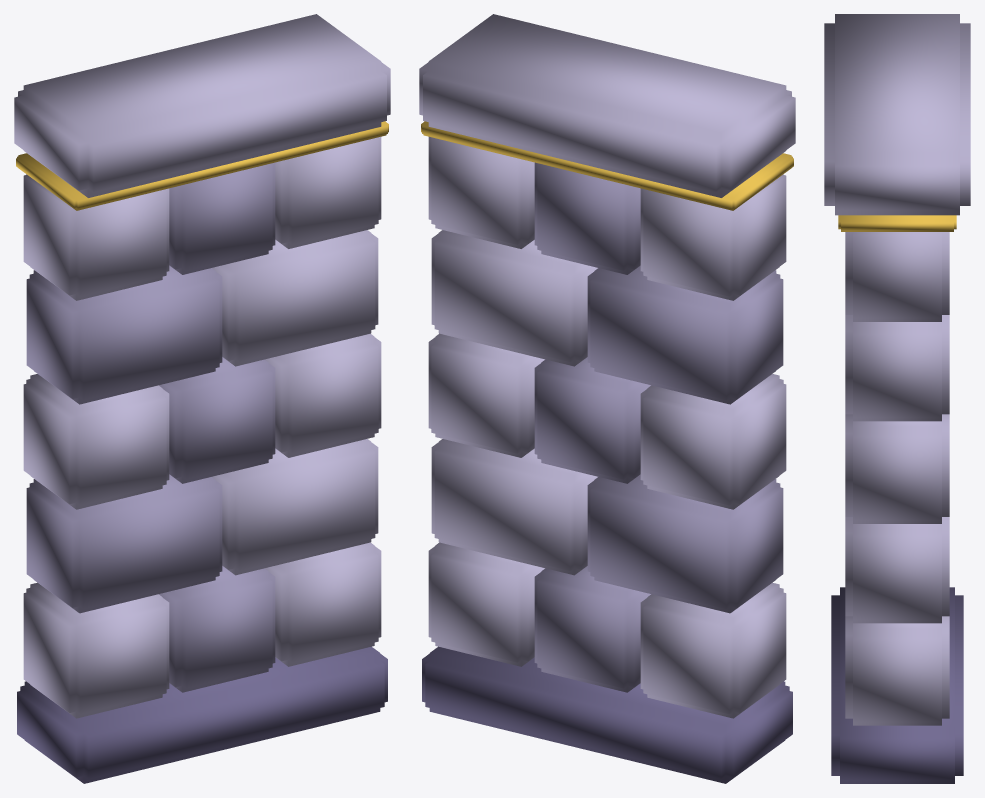
File: parede-alta.glb
3 views of the same model, side by side, from view 1: azimuth 30°, elevation 25°; view 2: azimuth 150°, elevation 25°; view 3: azimuth 270°, elevation 25° (orthographic). The views are drawn at different scales.
Parts seen in each view (by area): view 1: ParedeAlta; view 2: ParedeAlta; view 3: ParedeAlta.
Part boxes in pixels (x1,y1,x2,y2): ParedeAlta: (14, 14, 390, 783); ParedeAlta: (419, 14, 795, 783); ParedeAlta: (824, 14, 970, 783).
Size of the model in its own units: 1.01 by 2 by 0.42.
